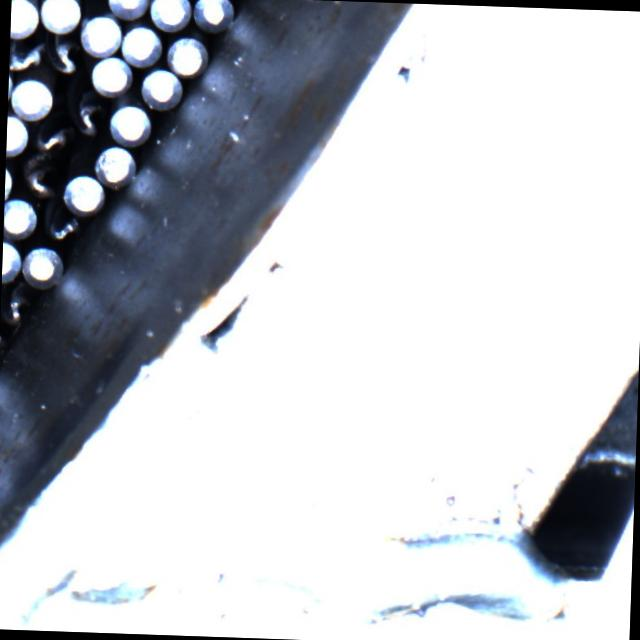tool: (18, 242, 64, 290), (107, 100, 151, 146), (8, 76, 52, 120), (90, 53, 132, 98), (120, 24, 162, 67), (138, 66, 180, 108), (64, 171, 107, 212), (166, 34, 206, 78), (93, 142, 134, 183), (80, 12, 120, 54), (3, 196, 37, 237), (191, 0, 233, 33), (39, 0, 80, 32), (147, 0, 189, 31), (1, 237, 23, 286), (10, 0, 39, 36), (6, 111, 28, 154), (105, 0, 148, 18)
tool_b: (16, 150, 61, 198), (65, 88, 108, 137), (43, 29, 82, 78), (32, 115, 75, 155), (0, 287, 37, 328), (8, 35, 46, 73), (42, 206, 82, 240)
